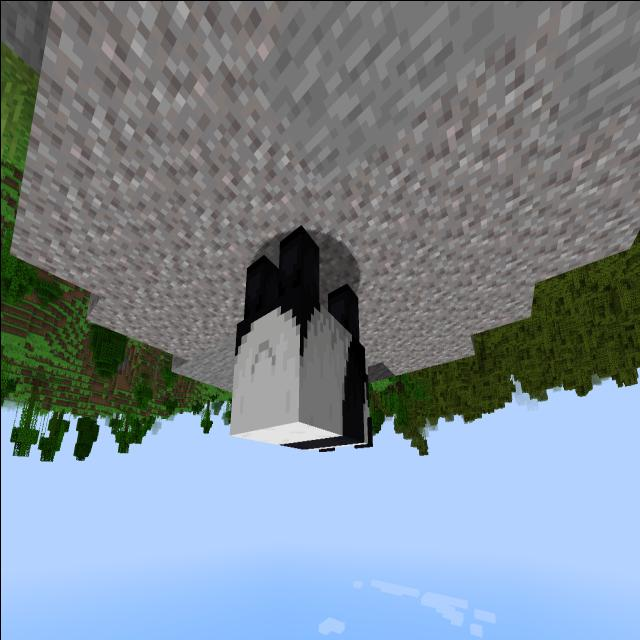Panda: (215, 210, 379, 462)
